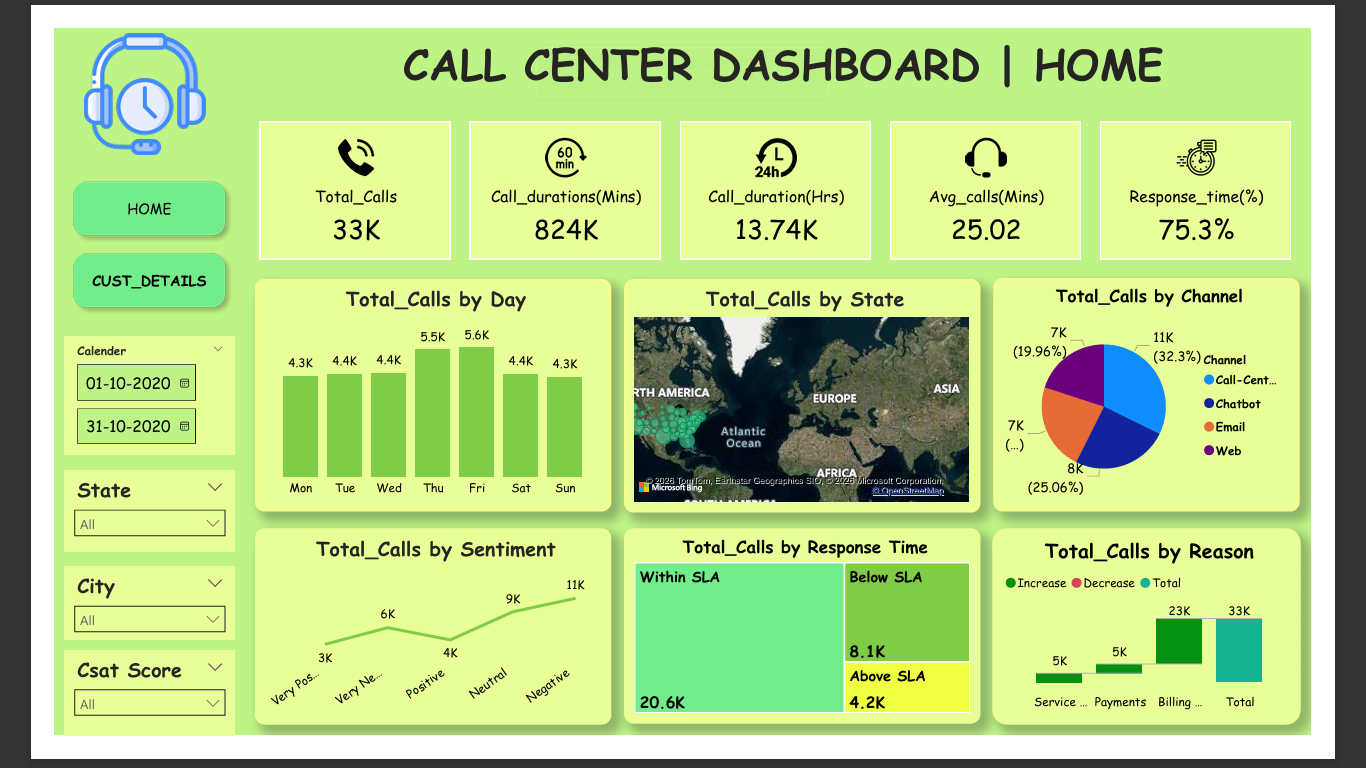

The page's visual inventory and layout, read from the dashboard file:
{"tool":"powerbi","page":{"name":"HOME","canvas":[1280,720],"ordinal":0},"visuals":[{"type":"textbox","box":[203.9,0,1075.7,72.3],"z":0},{"type":"cardVisual","fields":{"Data":["Call Center_Call Center.Total_Calls","Call Center_Call Center.Call_durations(Mins)","Call Center_Call Center.Call_duration(Hrs)","Call Center_Call Center.Avg_calls(Mins)","Call Center_Call Center.Response_time(%)"]},"box":[203.9,89.6,1064.1,150.4],"z":1000},{"type":"image","box":[0,0,183.6,134.5],"z":2000},{"type":"clusteredColumnChart","fields":{"Y":["Call Center_Call Center.Total_Calls"],"Category":["Call_center_date.Day"]},"box":[204.1,255.1,362.8,236.7],"z":3000},{"type":"map","fields":{"Size":["Call Center_Call Center.Total_Calls"],"Category":["Call Center_Call Center.State"]},"box":[579.7,255.1,362.8,238.1],"z":4000},{"type":"pieChart","fields":{"Y":["Call Center_Call Center.Total_Calls"],"Category":["Call Center_Call Center.Channel"]},"box":[955.7,254.5,312.3,237.1],"z":5000},{"type":"lineChart","fields":{"Y":["Call Center_Call Center.Total_Calls"],"Category":["Call Center_Call Center.Sentiment"]},"box":[204.1,508.8,362.8,199.8],"z":6000},{"type":"treemap","fields":{"Values":["Call Center_Call Center.Total_Calls"],"Group":["Call Center_Call Center.Response Time"]},"box":[579.8,508.9,362.9,199.5],"z":7000},{"type":"waterfallChart","fields":{"Y":["Call Center_Call Center.Total_Calls"],"Category":["Call Center_Call Center.Reason"]},"box":[955.3,508.8,313.2,199.8],"z":8000},{"type":"slicer","fields":{"Values":["Call Center_Call Center.Call Timestamp"]},"box":[10.1,313.7,173.5,121.4],"z":9000},{"type":"slicer","fields":{"Values":["Call Center_Call Center.State"]},"box":[10.1,449.6,173.5,83.9],"z":10000},{"type":"slicer","fields":{"Values":["Call Center_Call Center.City"]},"box":[10.1,548,173.5,75.2],"z":11000},{"type":"slicer","fields":{"Values":["Call Center_Call Center.Csat Score"]},"box":[10.1,633.3,173.5,86.7],"z":12000},{"type":"pageNavigator","box":[10.1,147.5,173.5,147.5],"z":13000}]}

Visuals, with their boxes in screenshot pixels (x1, y1, x2, y2), scaled from the page's 1280x720 canvas onto the 1366x768 screenshot:
textbox: bbox(218, 0, 1365, 77)
cardVisual - Call Center_Call Center.Total_Calls x Call Center_Call Center.Call_durations(Mins): bbox(218, 96, 1353, 256)
image: bbox(0, 0, 196, 143)
clusteredColumnChart - Call Center_Call Center.Total_Calls x Call_center_date.Day: bbox(218, 272, 605, 525)
map - Call Center_Call Center.Total_Calls x Call Center_Call Center.State: bbox(619, 272, 1006, 526)
pieChart - Call Center_Call Center.Total_Calls x Call Center_Call Center.Channel: bbox(1020, 271, 1353, 524)
lineChart - Call Center_Call Center.Total_Calls x Call Center_Call Center.Sentiment: bbox(218, 543, 605, 756)
treemap - Call Center_Call Center.Total_Calls x Call Center_Call Center.Response Time: bbox(619, 543, 1006, 756)
waterfallChart - Call Center_Call Center.Total_Calls x Call Center_Call Center.Reason: bbox(1019, 543, 1354, 756)
slicer - Call Center_Call Center.Call Timestamp: bbox(11, 335, 196, 464)
slicer - Call Center_Call Center.State: bbox(11, 480, 196, 569)
slicer - Call Center_Call Center.City: bbox(11, 585, 196, 665)
slicer - Call Center_Call Center.Csat Score: bbox(11, 676, 196, 767)
pageNavigator: bbox(11, 157, 196, 315)
